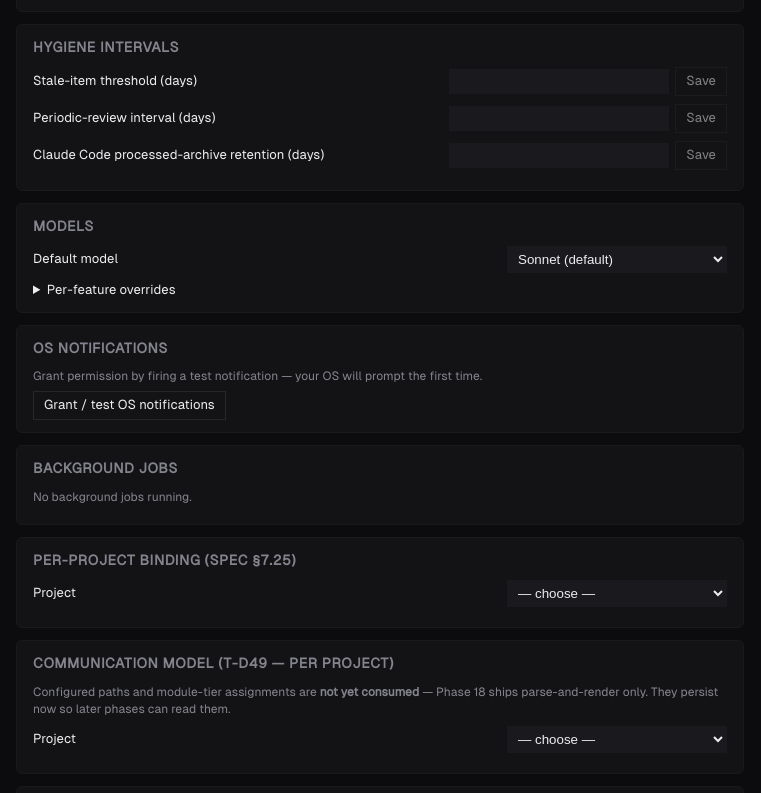
Test case: Phase 15 — settings panel (SPEC §7.25) › E4/SF5-03: an unavailable notifier surfaces an honest warning, not silent success
(page scrolled)
Click the button with test id "grant-notifications".
click(129, 406)  # box x1=33 y1=392 x2=226 y2=420
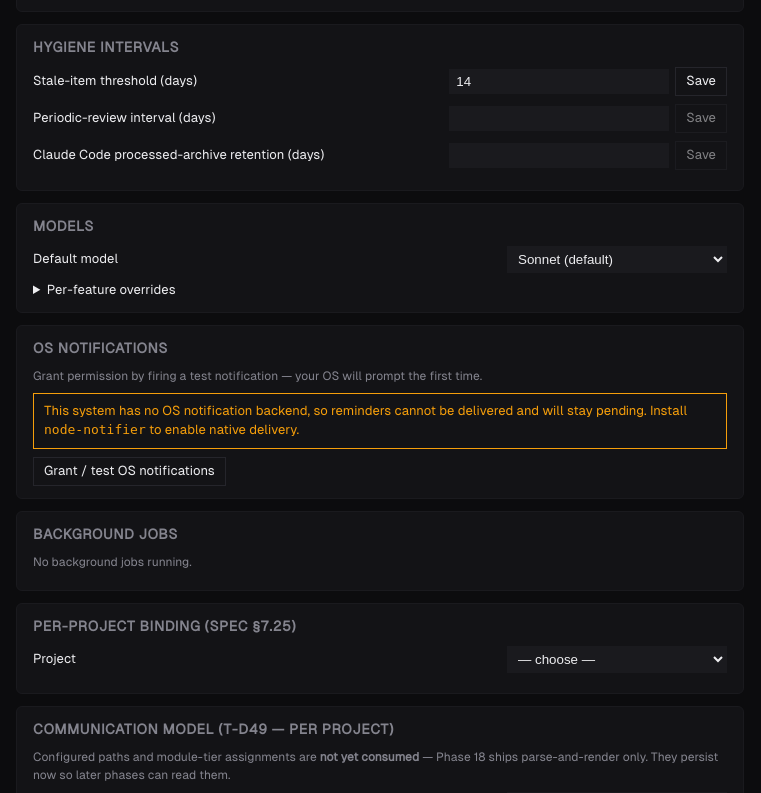
Now the message with test id "notifications-unavailable" is shown, box x1=33 y1=394 x2=727 y2=449
